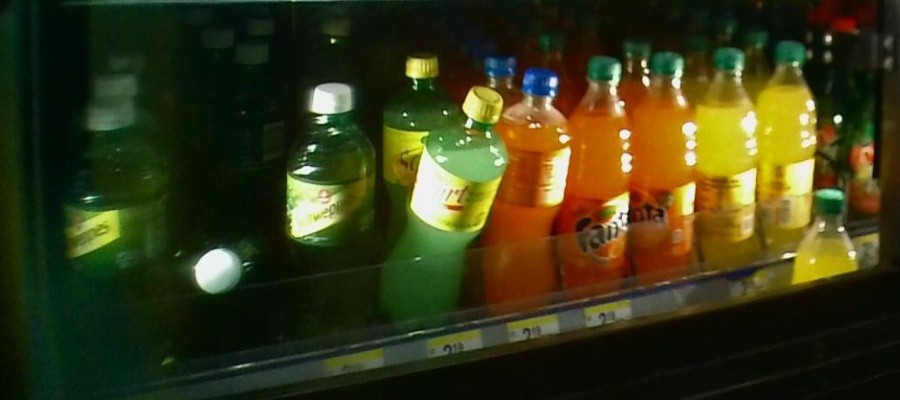bottle: (59, 102, 162, 360), (388, 84, 494, 331), (292, 83, 379, 323), (494, 72, 569, 326), (568, 62, 638, 305), (698, 45, 764, 281), (636, 54, 697, 295), (759, 47, 823, 272), (177, 221, 267, 339)
